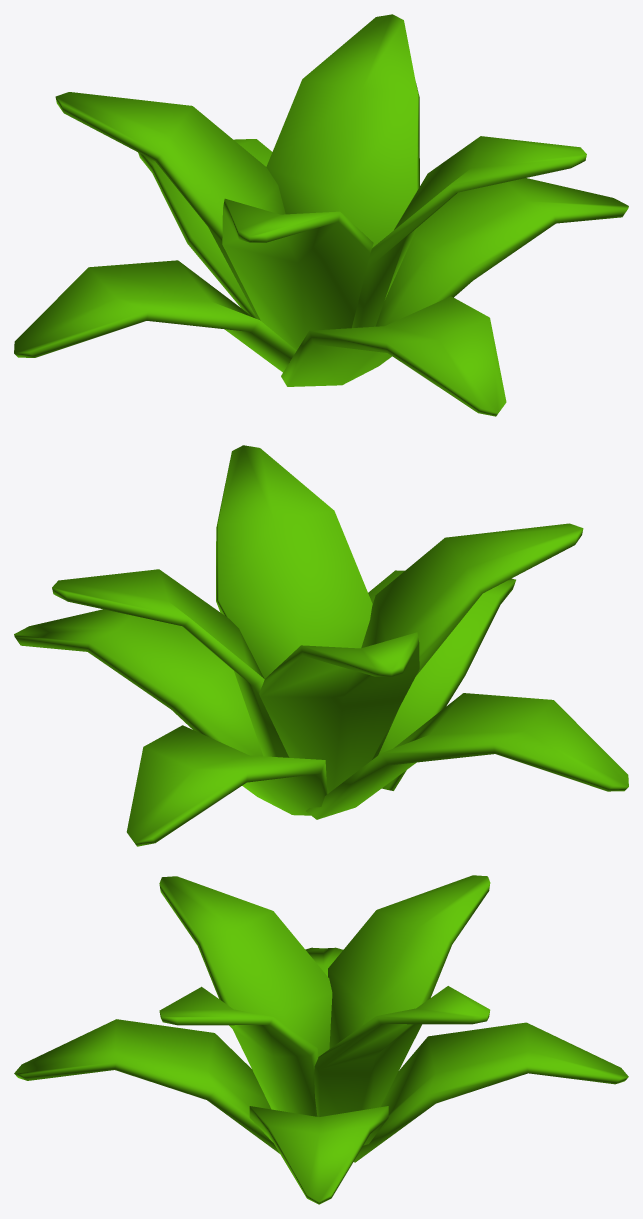
File: 05.07_Bubuia_planta1.fbx
3 renders of one model, top to bottom at view 1: azimuth 30°, elevation 25°; view 2: azimuth 150°, elevation 25°; view 3: azimuth 270°, elevation 25°, orthographic. The views are drawn at different scales.
Parts seen in each view (by area): view 1: Cube; view 2: Cube; view 3: Cube.
Part boxes in pixels (x1=…): Cube: x1=14, y1=14, x2=628, y2=416; Cube: x1=14, y1=445, x2=628, y2=846; Cube: x1=14, y1=875, x2=628, y2=1204.
Bounding box in the file's own units: 8.64 × 3.22 × 8.85.
